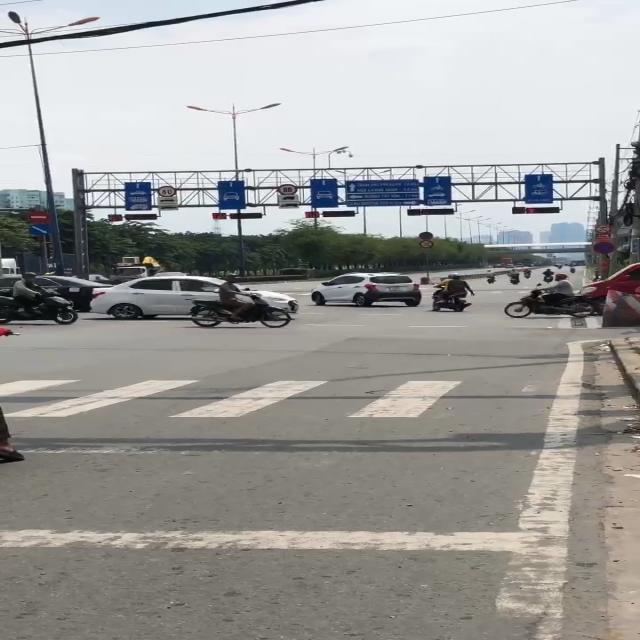Bien bao cam di nguoc chieu: (24, 207, 55, 223)
Bien bao huong phai di vong chuong ngai vat: (26, 222, 52, 238)
Bien bao toc do toi da cho phep: (276, 182, 304, 195), (154, 185, 179, 199)
